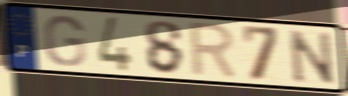4: (95, 15, 135, 74)
7: (241, 23, 283, 84)
8: (141, 19, 186, 76)
G: (42, 13, 88, 69)
N: (286, 27, 338, 86)
R: (187, 20, 240, 82)
